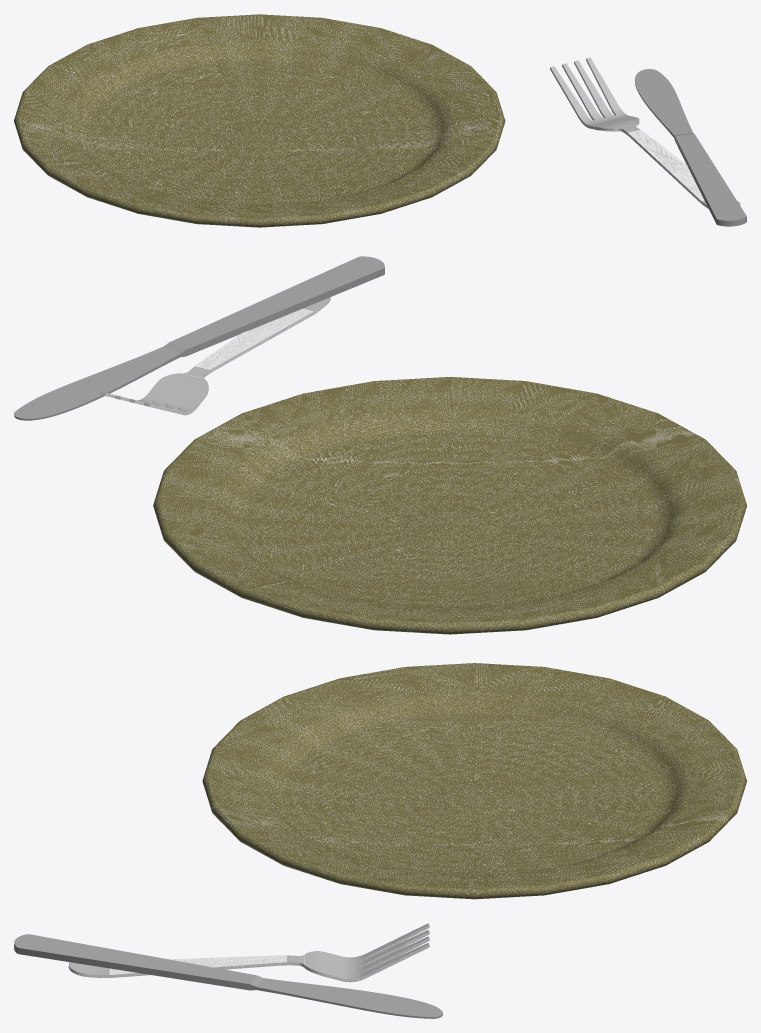
File: cutlery.dae
The picture shows the model from 3 angles, top to bottom: view 1: azimuth 30°, elevation 25°; view 2: azimuth 150°, elevation 25°; view 3: azimuth 270°, elevation 25°; orthographic projection. The views are drawn at different scales.
Visible parts, largest first — view 1: skp37A9 (×3), Component_171, Component_172 (×2); view 2: skp37A9 (×3), Component_171, Component_172 (×2); view 3: skp37A9 (×3), Component_171, Component_172 (×2).
Boxes of the visible parts, bbox=[...] form: skp37A9 (×3): bbox=[14, 14, 505, 227]; Component_171: bbox=[634, 69, 746, 226]; Component_172 (×2): bbox=[550, 57, 740, 208]; skp37A9 (×3): bbox=[153, 377, 746, 634]; Component_171: bbox=[14, 256, 384, 420]; Component_172 (×2): bbox=[100, 297, 330, 415]; skp37A9 (×3): bbox=[202, 663, 746, 899]; Component_171: bbox=[14, 934, 442, 1018]; Component_172 (×2): bbox=[68, 923, 429, 982].
Size of the model in its own units: 13.81 by 13.37 by 0.7711.
